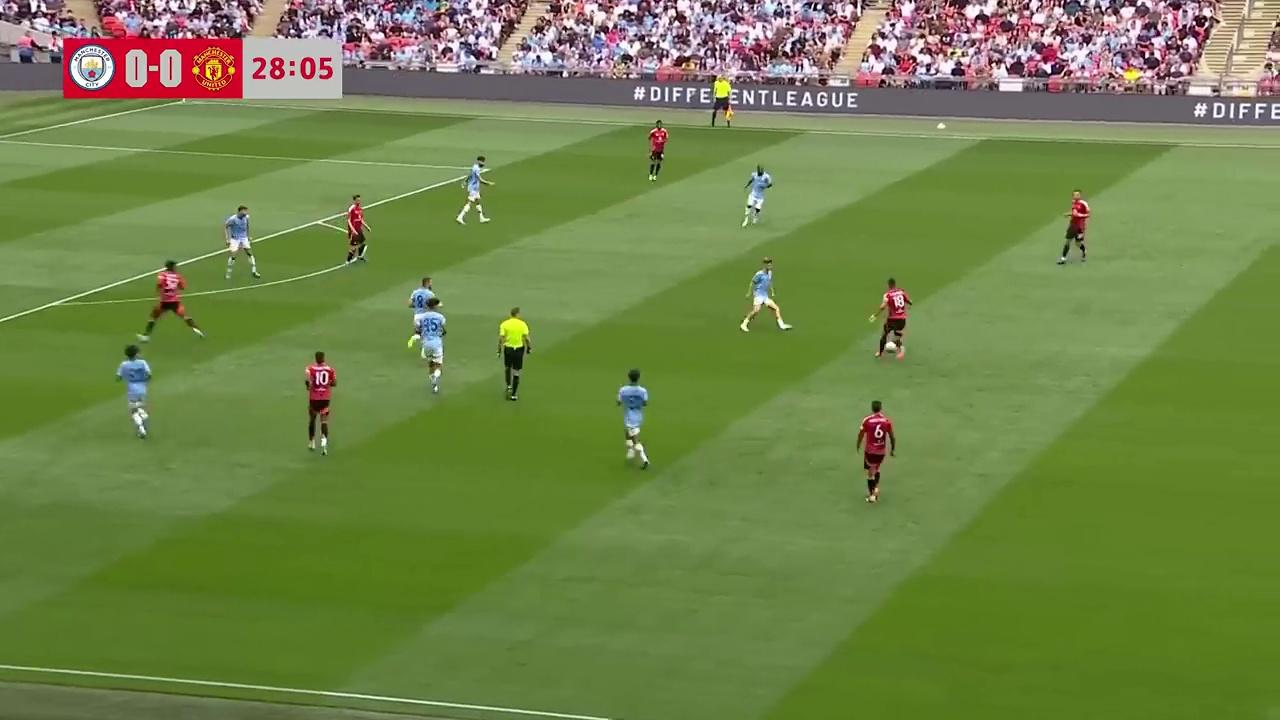ball: (886, 338, 900, 353)
player: (141, 260, 205, 340), (855, 400, 895, 504), (740, 257, 792, 333), (407, 278, 444, 378), (870, 277, 911, 361), (413, 294, 447, 394), (304, 351, 336, 457), (116, 344, 152, 438), (617, 368, 650, 470), (222, 204, 258, 281), (406, 276, 442, 348), (456, 155, 493, 225), (1057, 190, 1090, 266), (742, 164, 772, 227), (345, 194, 371, 266), (647, 121, 668, 182)
referee: (496, 307, 531, 401), (710, 74, 735, 128)
